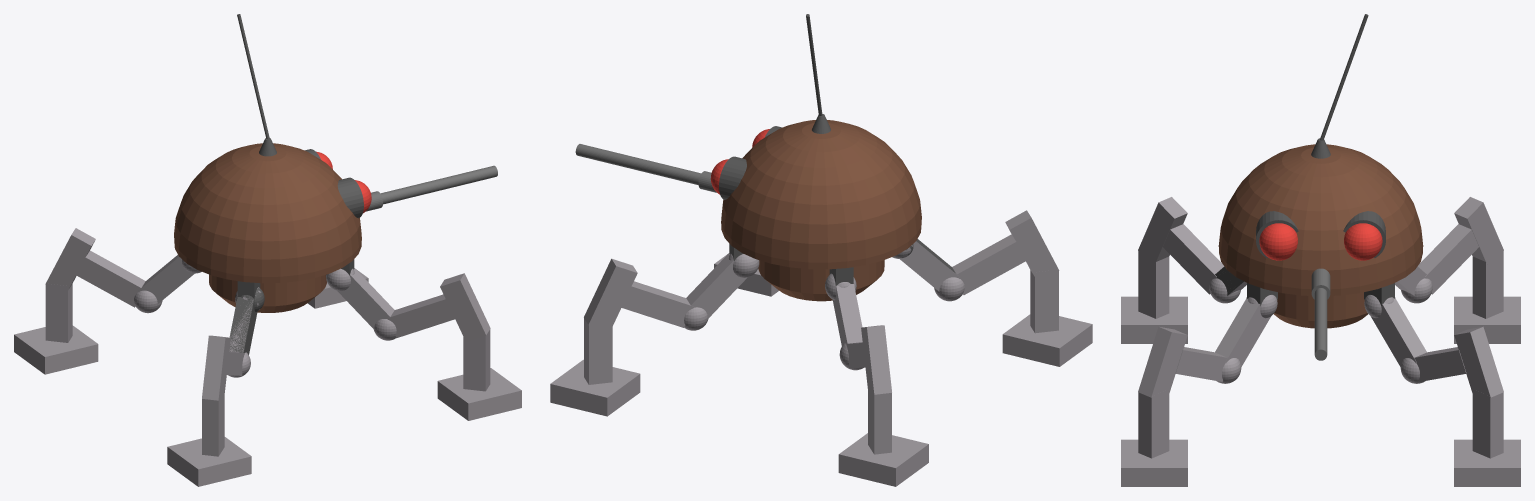
File: DSD1.fbx
3 renders of one model, left to right at view 1: azimuth 30°, elevation 25°; view 2: azimuth 150°, elevation 25°; view 3: azimuth 270°, elevation 25°, orthographic. The views are drawn at different scales.
Visible parts, largest first — view 1: Cylinder.007; view 2: Cylinder.007; view 3: Cylinder.007.
Boxes of the visible parts, x1,y1,x2,y2 form: Cylinder.007: [14, 14, 521, 486]; Cylinder.007: [550, 14, 1092, 486]; Cylinder.007: [1121, 14, 1520, 486].
Bounding box in the file's own units: 364 × 315 × 298.
